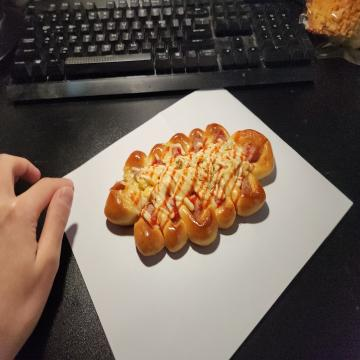pizza_bread: (103, 122, 275, 260)
